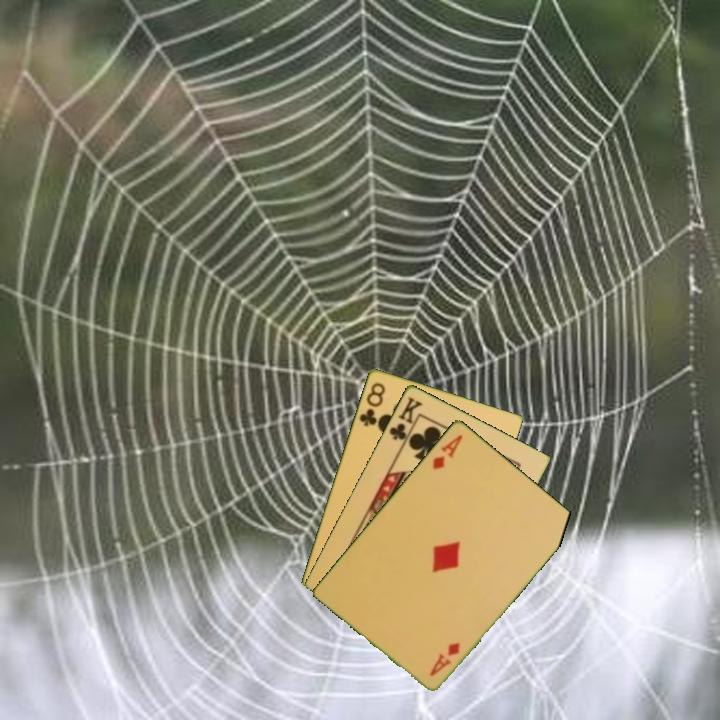8c: (355, 378, 388, 429)
Ad: (429, 431, 466, 472), (426, 638, 463, 679)
Kc: (385, 393, 425, 449)
